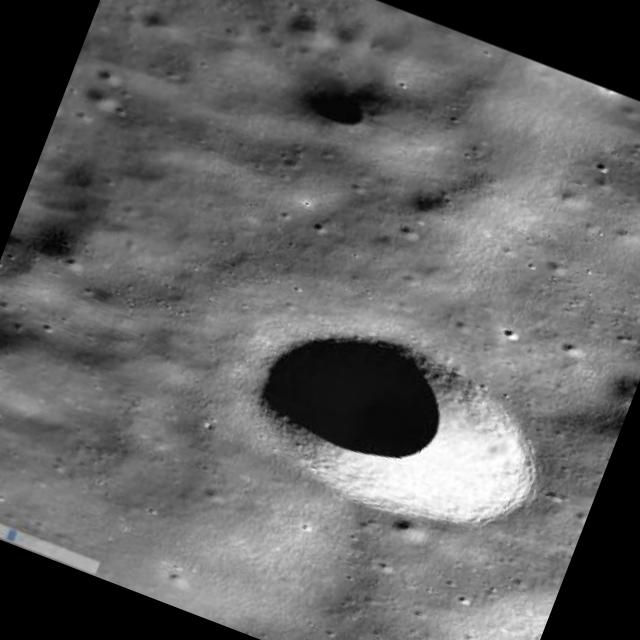crater: (228, 297, 569, 556), (290, 68, 386, 144)
